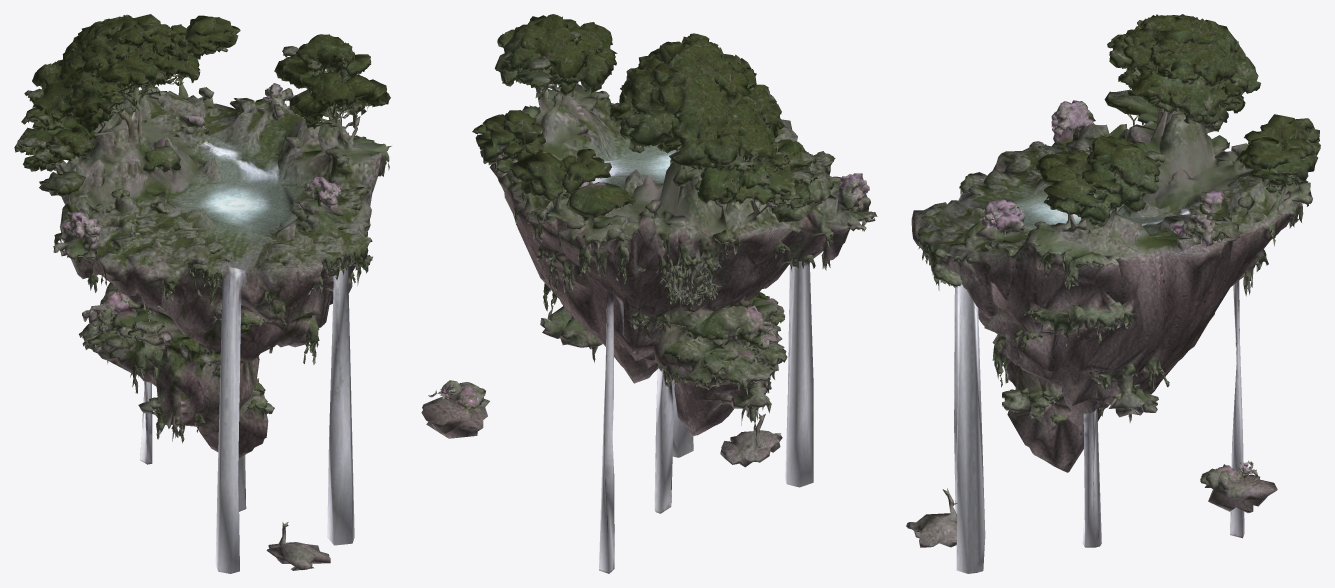
The model's file is island.glb.
The picture shows the model from 3 angles, left to right: view 1: azimuth 30°, elevation 25°; view 2: azimuth 150°, elevation 25°; view 3: azimuth 270°, elevation 25°; orthographic projection. The views are drawn at different scales.
Visible parts, largest first — view 1: Mesh_0; view 2: Mesh_0; view 3: Mesh_0.
Boxes of the visible parts, bbox=[...] form: Mesh_0: bbox=[14, 14, 391, 573]; Mesh_0: bbox=[421, 14, 877, 573]; Mesh_0: bbox=[906, 14, 1320, 573].
Size of the model in its own units: 1.38 by 1.9 by 1.44.
1 material, 1 textured.
